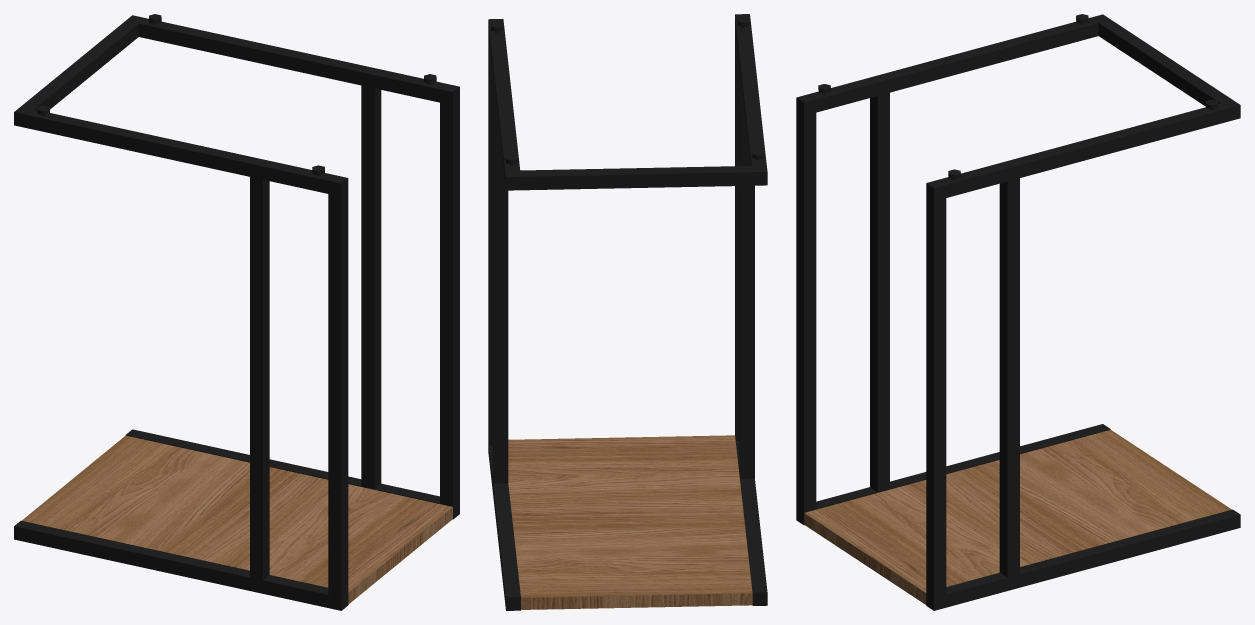
The model's file is MesinhaAssistente.fbx.
3 views of the same model, side by side, from view 1: azimuth 30°, elevation 25°; view 2: azimuth 150°, elevation 25°; view 3: azimuth 270°, elevation 25° (orthographic). The views are drawn at different scales.
Parts seen in each view (by area): view 1: group_.024, group_ 3.008; view 2: group_ 3.008, group_.024, group_ 2.006; view 3: group_.024, group_ 3.008.
Part boxes in pixels (bbox=[...]): group_.024: bbox=[14, 15, 459, 610]; group_ 3.008: bbox=[22, 435, 452, 604]; group_ 3.008: bbox=[508, 435, 752, 609]; group_.024: bbox=[488, 14, 767, 610]; group_ 2.006: bbox=[491, 17, 764, 165]; group_.024: bbox=[796, 14, 1240, 610]; group_ 3.008: bbox=[804, 429, 1231, 604].
Size of the model in its own units: 0.5646 by 0.65 by 0.6098.
Materials: 2 (1 with a texture image).
